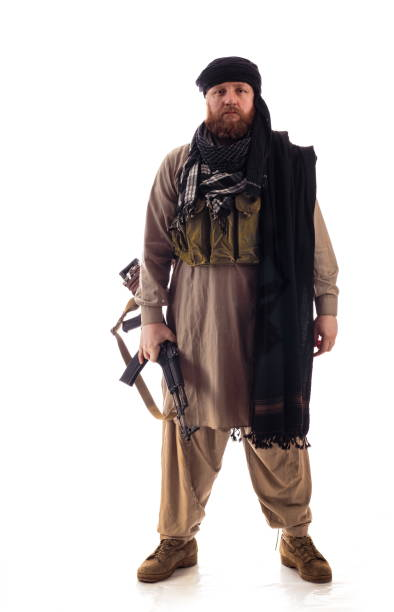e1: (233, 186, 270, 217)
